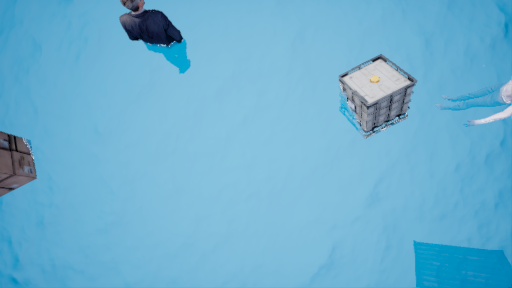person: (119, 1, 195, 75)
